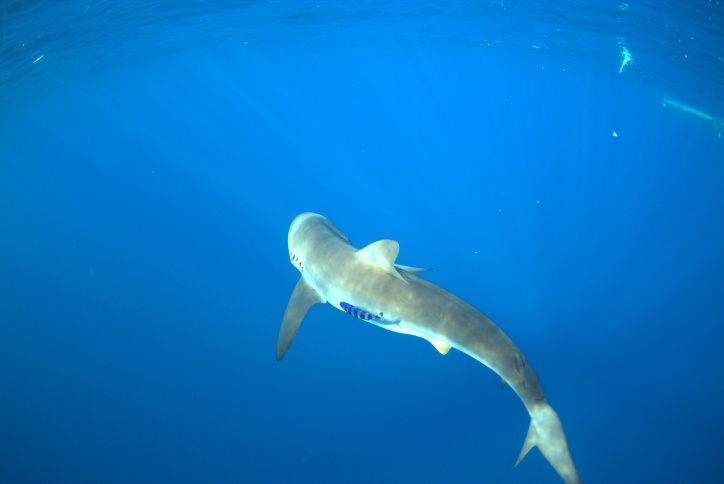Sedoso: (231, 195, 598, 484)
